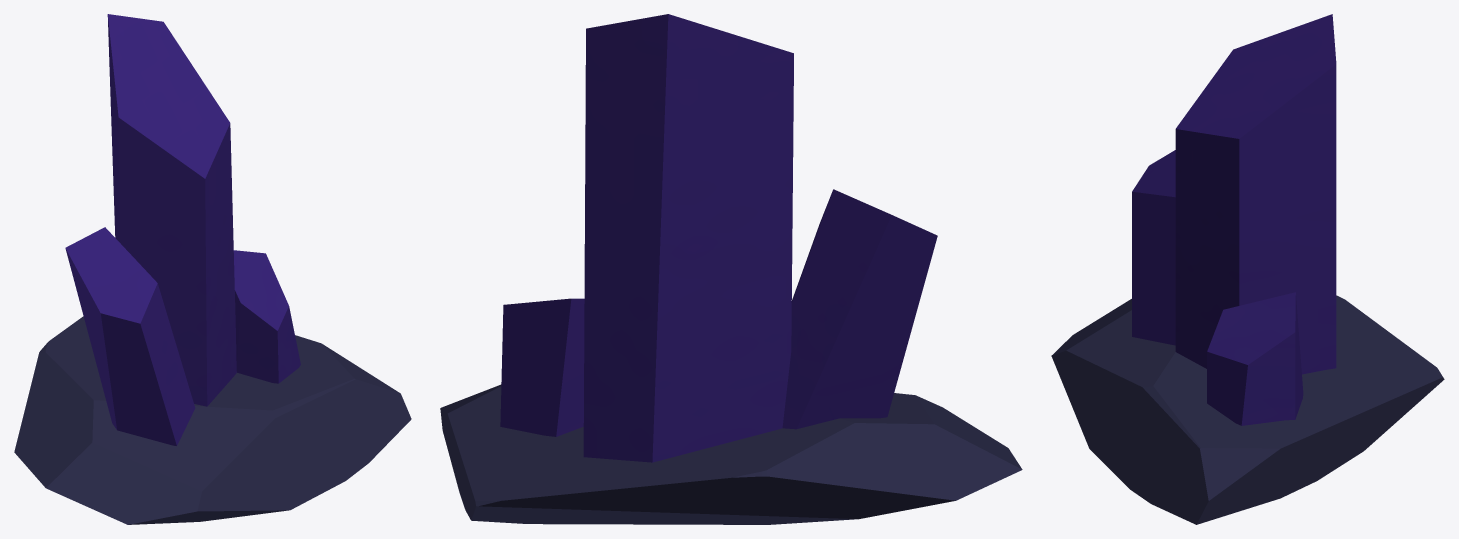
3 views of the same model, side by side, from view 1: azimuth 30°, elevation 25°; view 2: azimuth 150°, elevation 25°; view 3: azimuth 270°, elevation 25° (orthographic). The views are drawn at different scales.
Visible parts, largest first — view 1: Nó 6; view 2: Nó 6; view 3: Nó 6.
Part boxes in pixels (x1=…): Nó 6: x1=14, y1=14, x2=411, y2=524; Nó 6: x1=440, y1=14, x2=1022, y2=524; Nó 6: x1=1051, y1=14, x2=1444, y2=524.
Bounding box in the file's own units: 139 × 143 × 124.
Materials: 2 (1 with a texture image).
